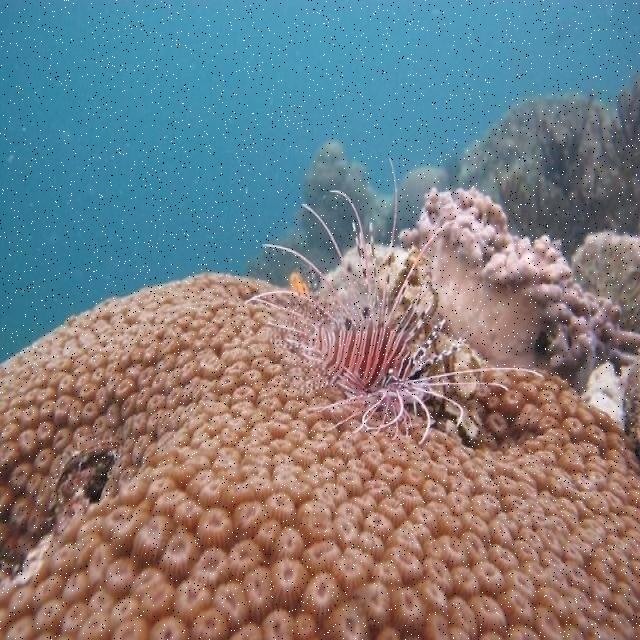fish: (253, 172, 535, 441)
reefs: (0, 273, 639, 639), (398, 185, 639, 372)
